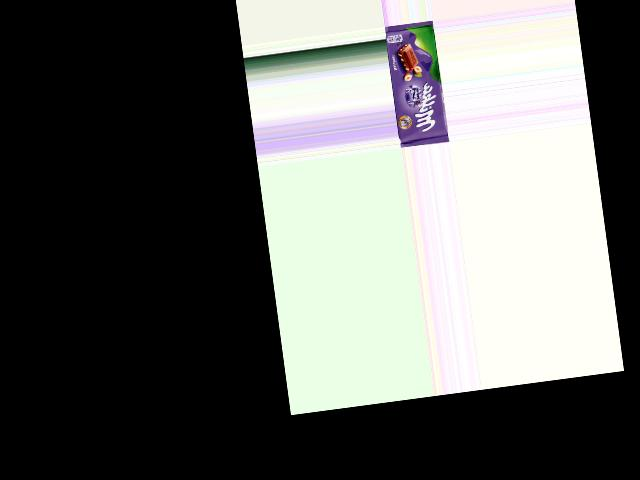chocolate: (383, 20, 448, 148)
